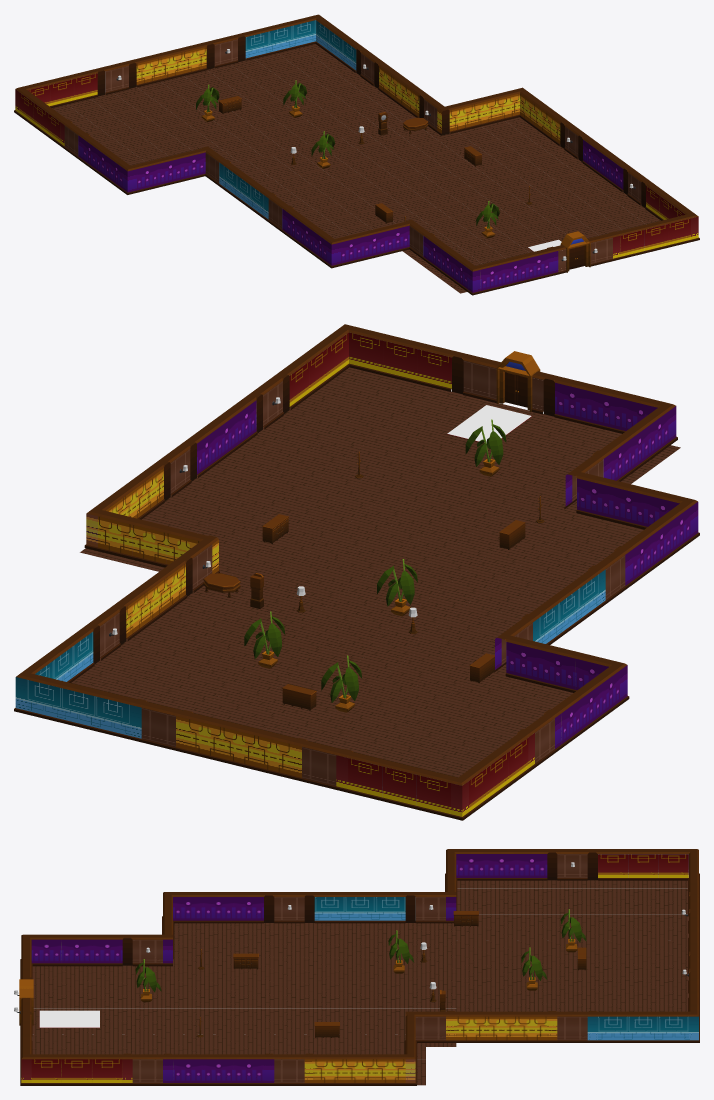
The model's file is Stage 3 (2).fbx.
The picture shows the model from 3 angles, top to bottom: view 1: azimuth 30°, elevation 25°; view 2: azimuth 150°, elevation 25°; view 3: azimuth 270°, elevation 25°; orthographic projection. The views are drawn at different scales.
Parts seen in each view (by area): view 1: Final_Stage3; view 2: Final_Stage3; view 3: Final_Stage3.
Part boxes in pixels (<box>): Final_Stage3: <box>14,14,699,295</box>; Final_Stage3: <box>14,324,699,820</box>; Final_Stage3: <box>14,849,699,1085</box>.
Size of the model in its own units: 4920 by 449 by 6783.
